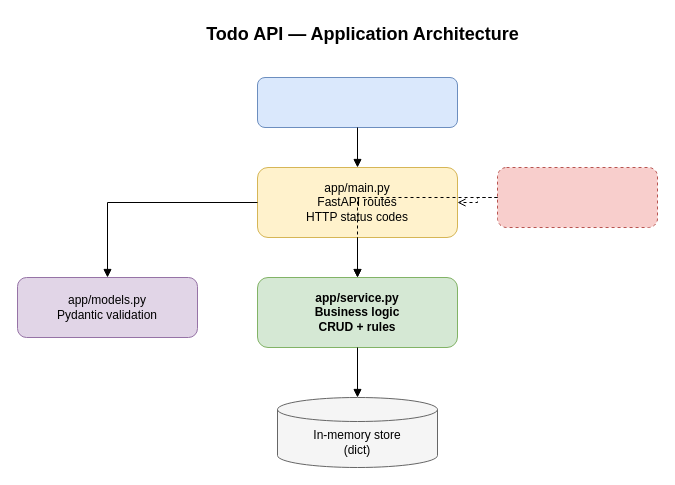
This 675x485 diagram has some shape labels left out. Each missing label, with the centre of its shape:
"Client / TestClient" goes at pixel 357 102.
"tests/ pytest suite" goes at pixel 577 197.
